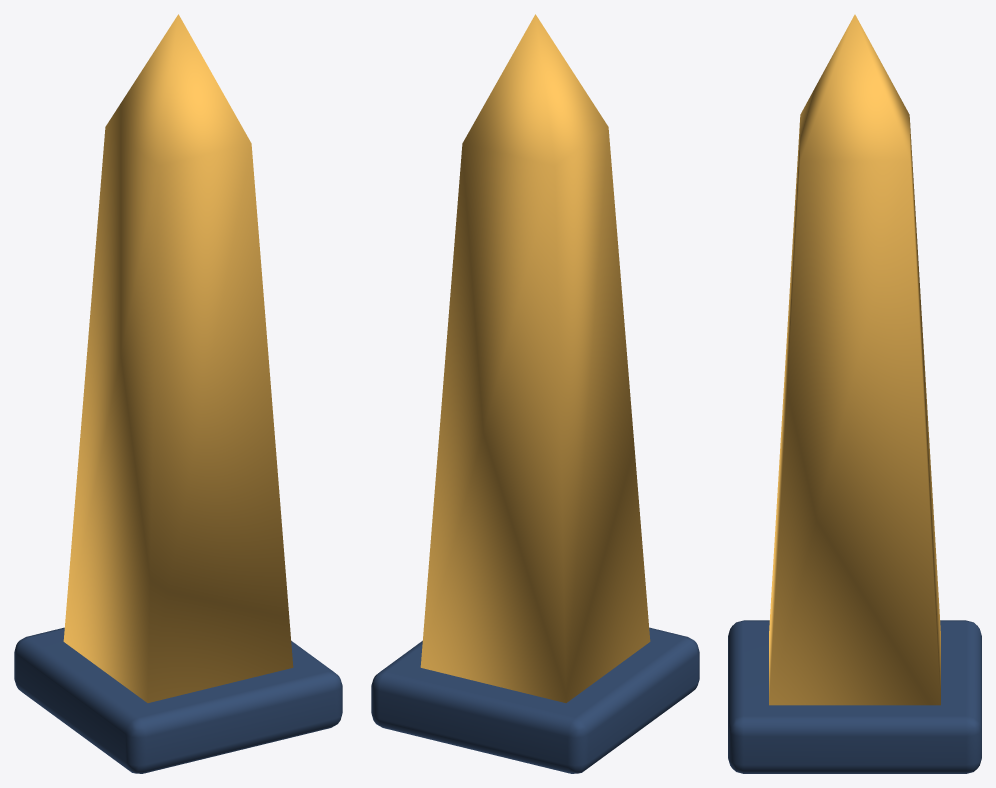
File: obelisk-quality.glb
3 renders of one model, left to right at view 1: azimuth 30°, elevation 25°; view 2: azimuth 150°, elevation 25°; view 3: azimuth 270°, elevation 25°, orthographic. The views are drawn at different scales.
Parts seen in each view (by area): view 1: Obelisk; view 2: Obelisk; view 3: Obelisk.
Boxes of the visible parts, box(x1,y1,x2,y2) form: Obelisk: box(14, 14, 342, 773); Obelisk: box(371, 14, 699, 773); Obelisk: box(728, 14, 981, 773).
Size of the model in its own units: 0.65 by 2.01 by 0.65.
